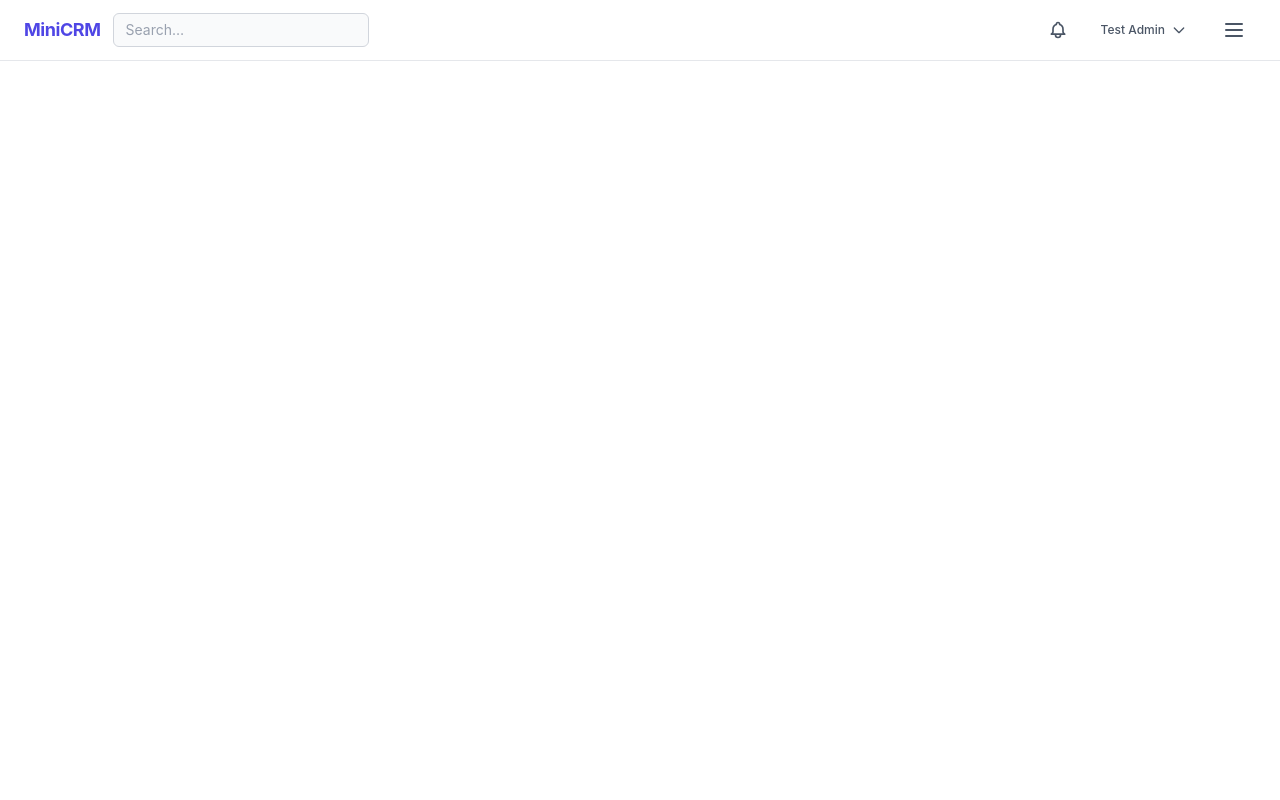
Test case: NavHamburger › clicking the close button closes the popover
This screenshot has width=1280, height=800.
Click the button with test id "nav-menu-toggle" at (1234, 30), box [1212,8,1256,52]
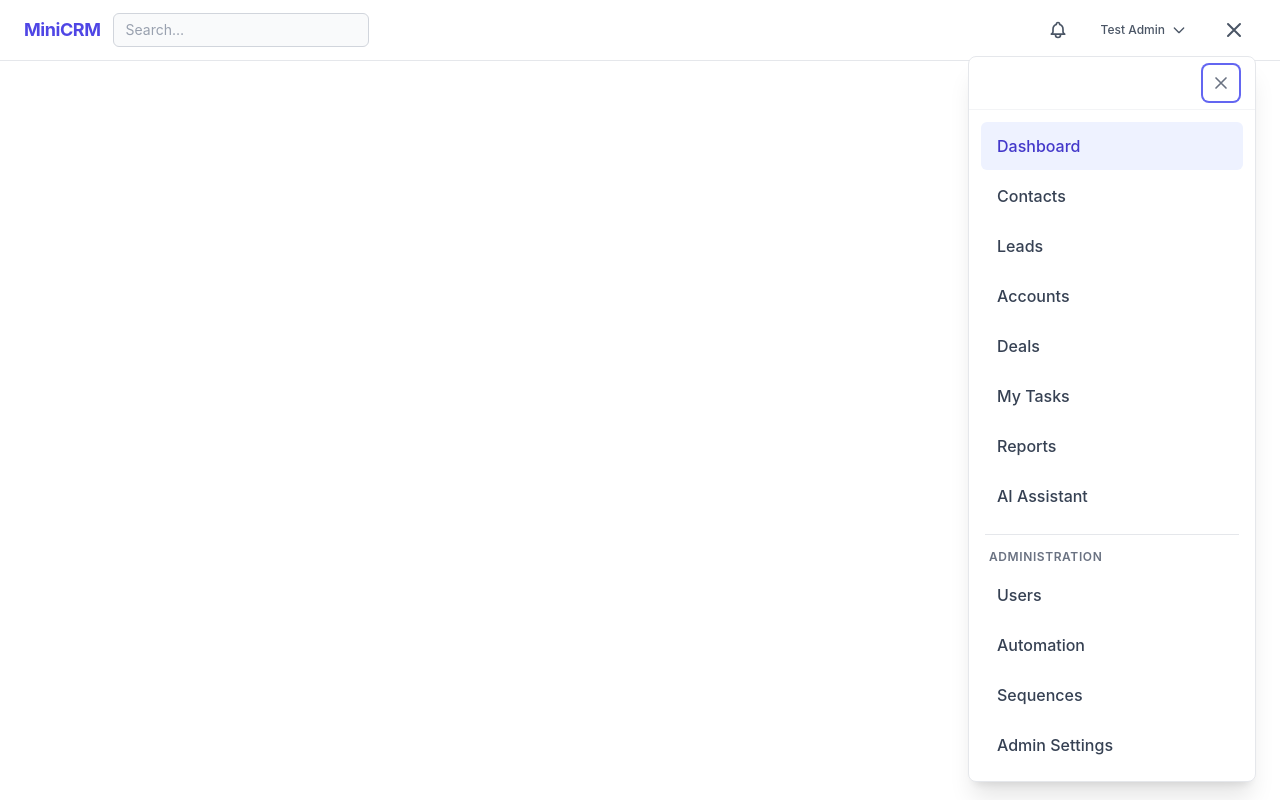
Result: the dialog with test id "nav-hamburger-drawer" is shown at [968,56,1256,782]
Click the button with test id "nav-hamburger-close" at (1221, 83), box [1203,65,1239,101]
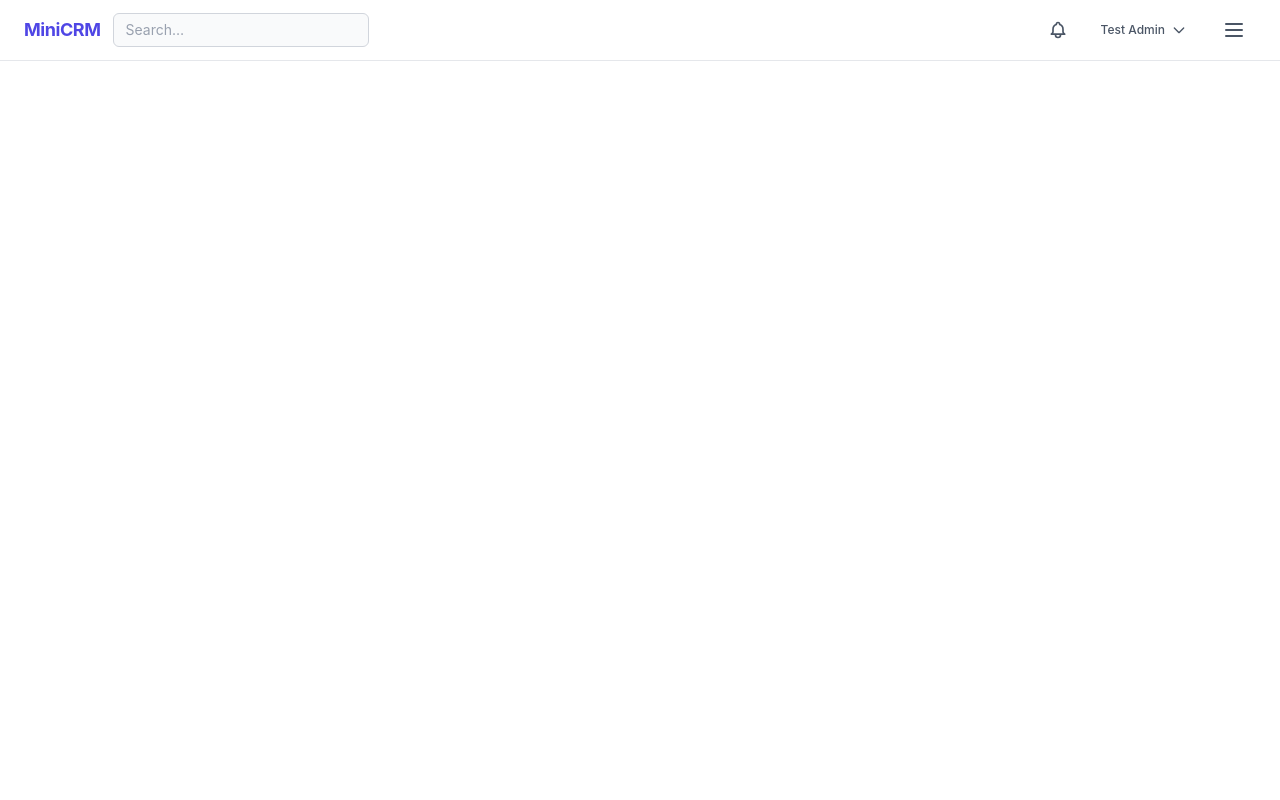
Result: the dialog with test id "nav-hamburger-drawer" is gone
